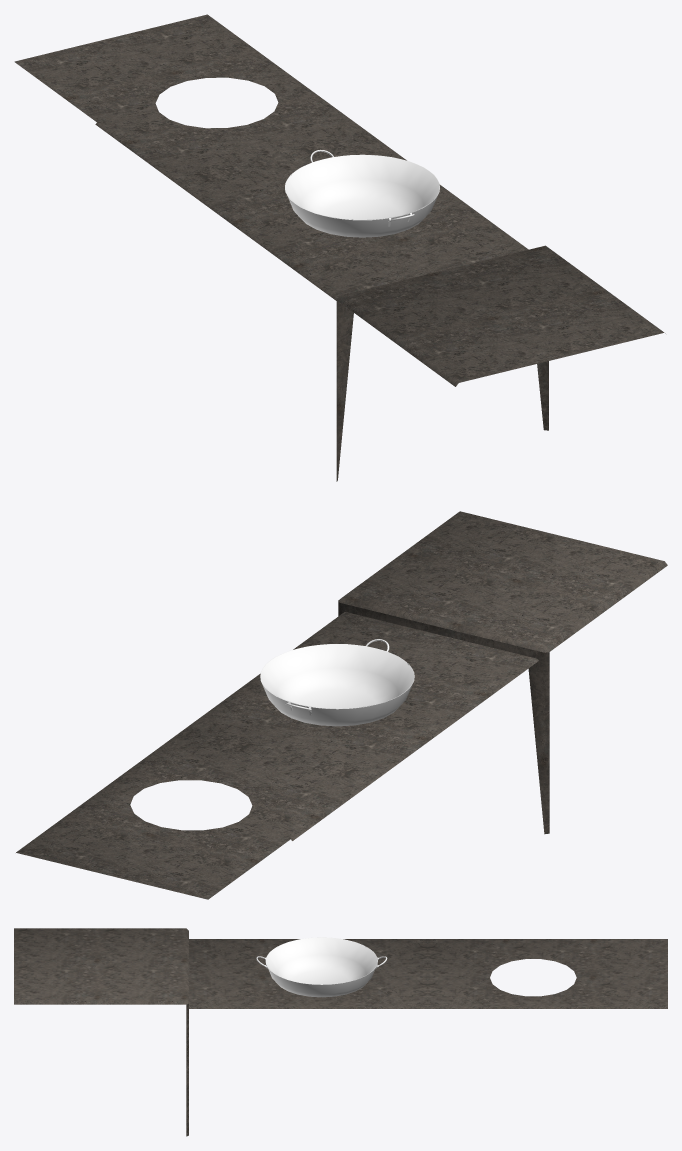
Rendered from scene_countryside.obj.
3 views of the same model, one above another, from view 1: azimuth 30°, elevation 25°; view 2: azimuth 150°, elevation 25°; view 3: azimuth 270°, elevation 25° (orthographic). The views are drawn at different scales.
Visible parts, largest first — view 1: SM_CBS_kezhanshinei_13.001; view 2: SM_CBS_kezhanshinei_13.001; view 3: SM_CBS_kezhanshinei_13.001.
Part boxes in pixels (x1=…): SM_CBS_kezhanshinei_13.001: x1=14, y1=14, x2=665, y2=481; SM_CBS_kezhanshinei_13.001: x1=16, y1=511, x2=667, y2=899; SM_CBS_kezhanshinei_13.001: x1=14, y1=928, x2=667, y2=1136.
Size of the model in its own units: 11.97 by 10.87 by 44.13.
